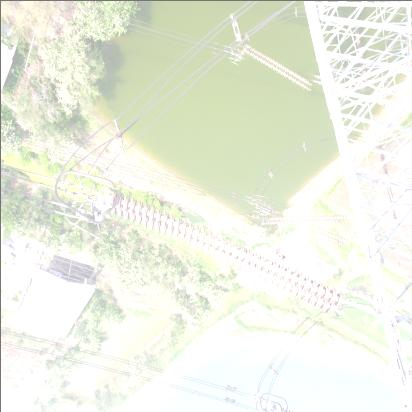insulator: (97, 192, 351, 315), (262, 196, 353, 244), (238, 48, 317, 88)
